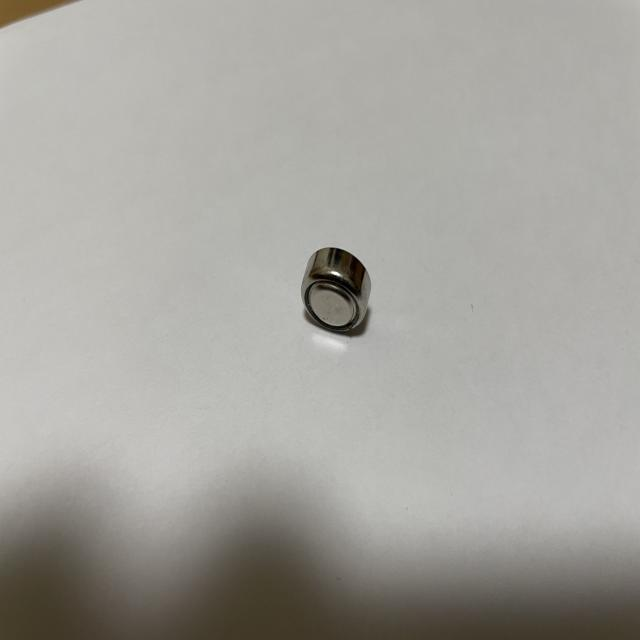COIN: (302, 248, 372, 331)
